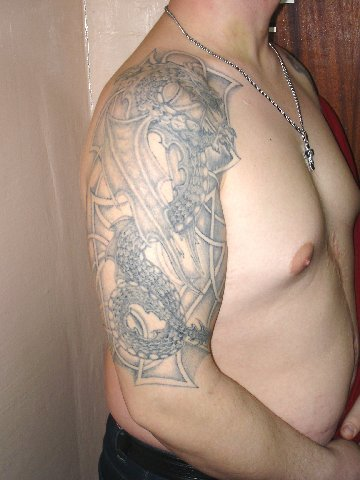tatu6_drakon: (82, 43, 243, 405)
